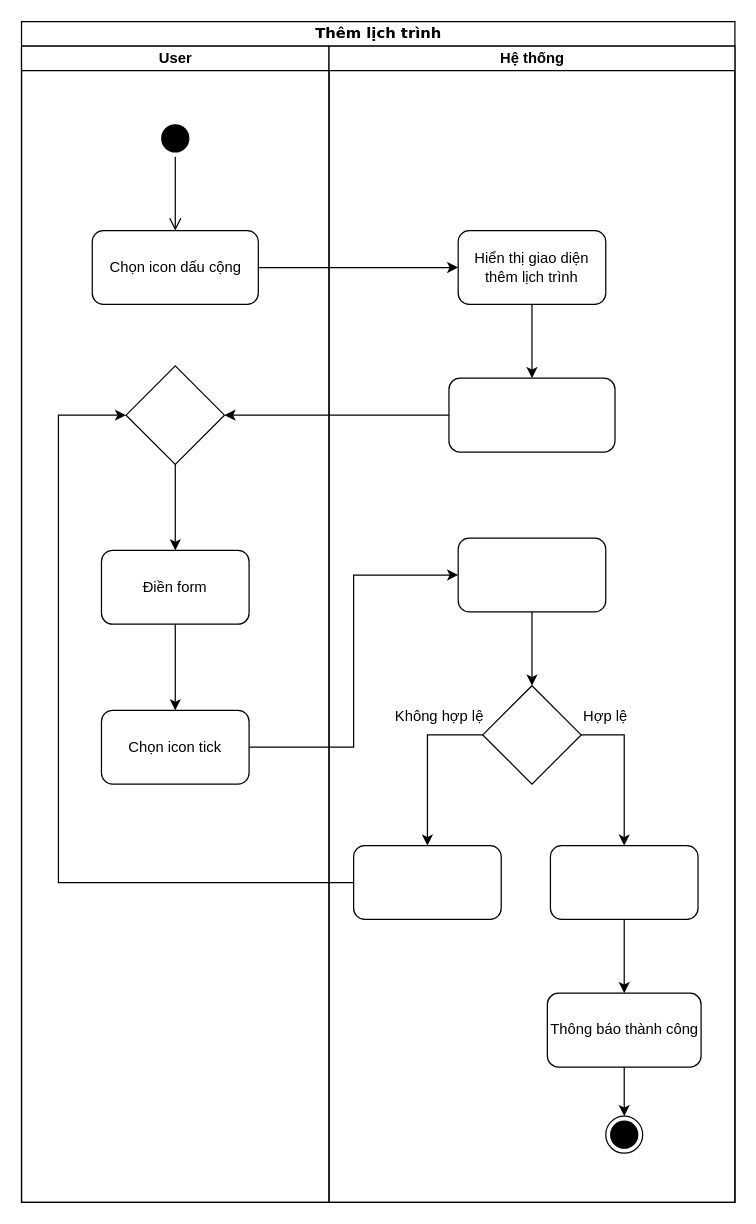
The diagram is 756 pixels wide and 1224 high, and some of its shapes have lost their labels. The centre of each missing label's shape, as x and y in pixels:
"Kiểm tra thông tin" belongs at [531,574].
"Lưu dữ liệu" belongs at [623,881].
"Thông báo lỗi" belongs at [426,881].
"Tạo form thêm lịch trình" belongs at [531,414].
